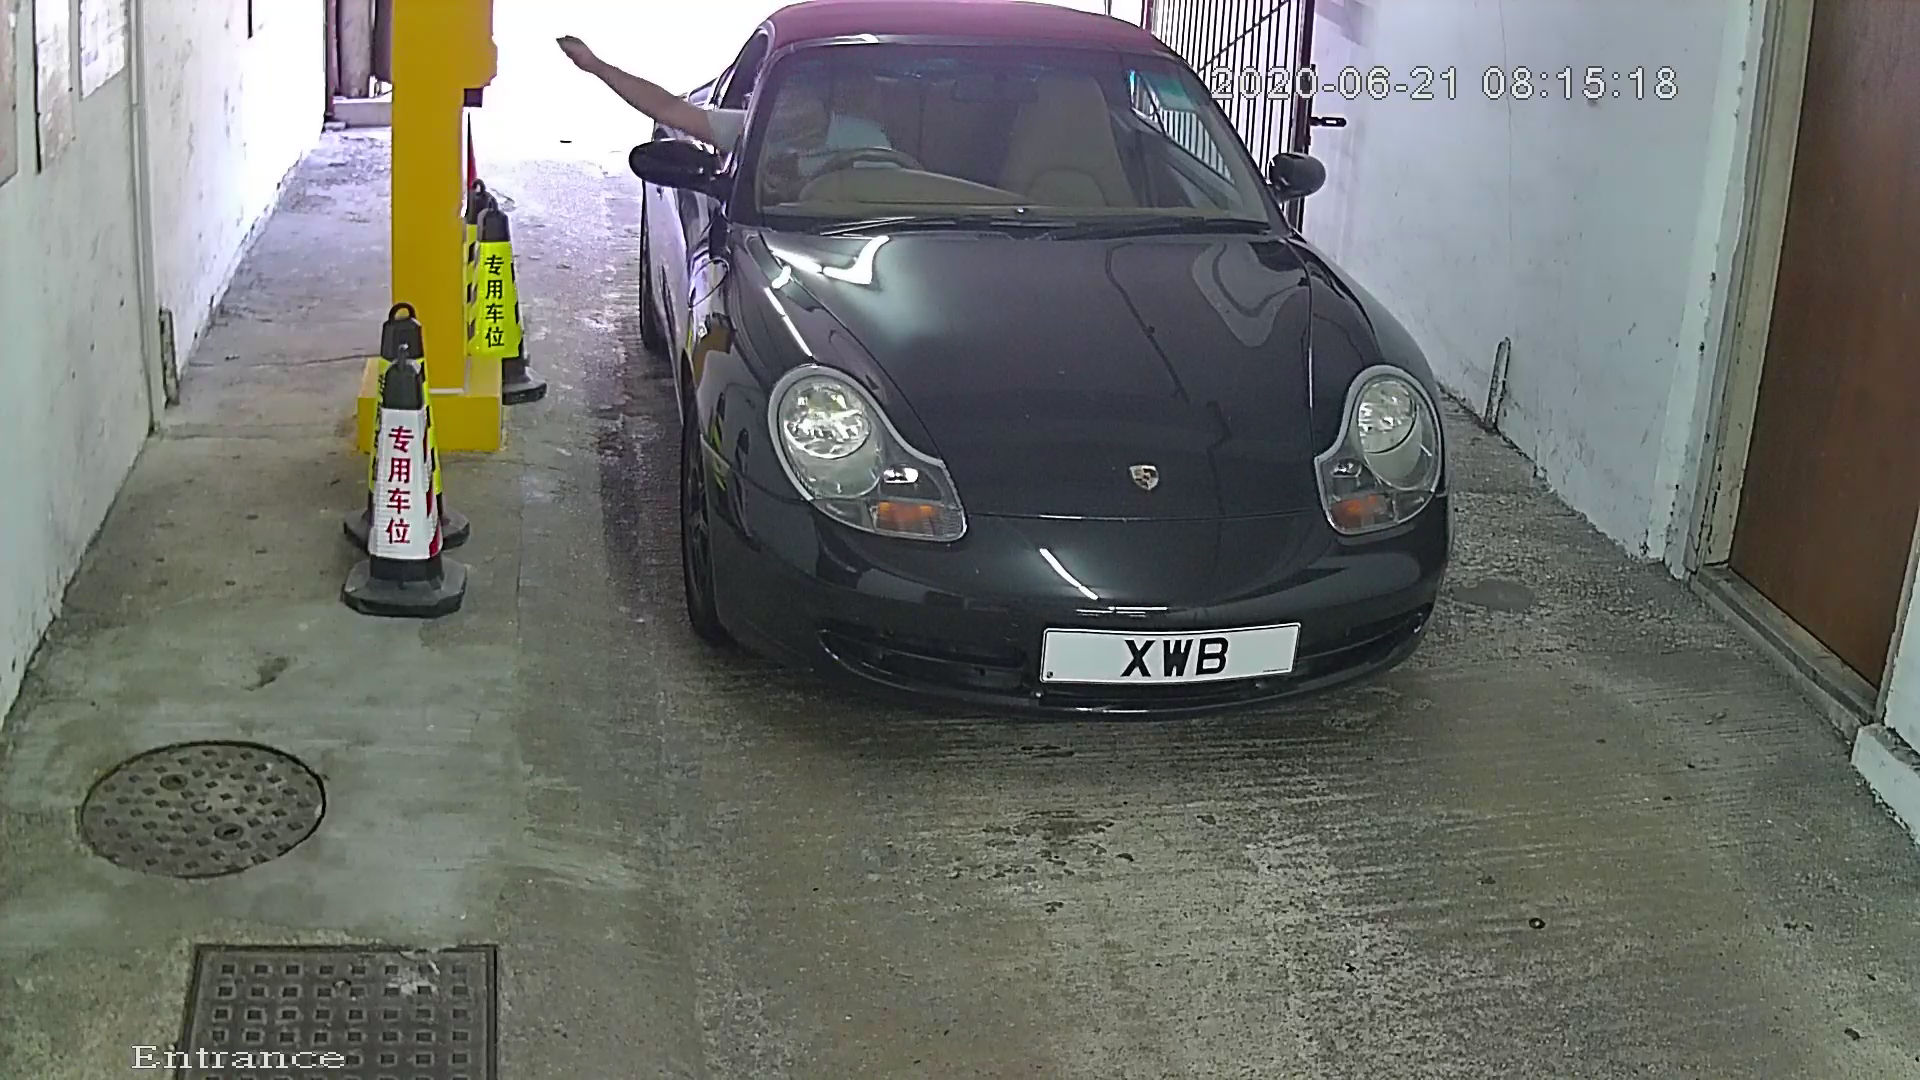privatecar: (601, 3, 1486, 779)
